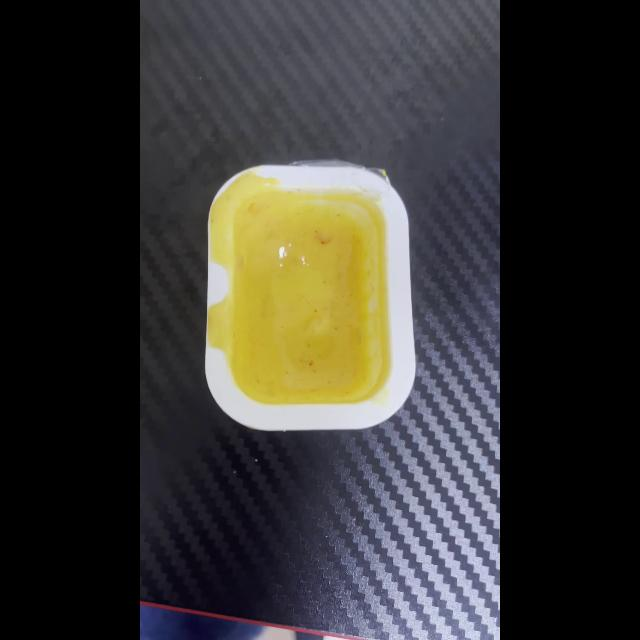dirty: (212, 162, 416, 428)
